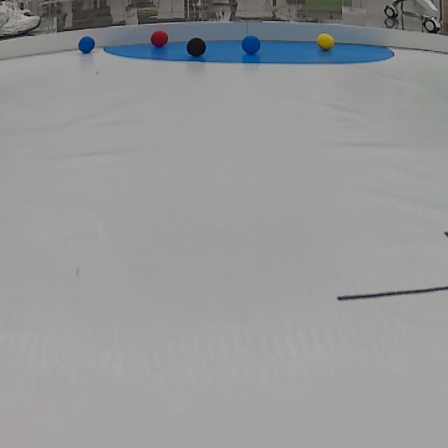black: (184, 33, 208, 58)
blue: (242, 33, 263, 56), (79, 36, 95, 56)
blue_base: (105, 33, 397, 66)
red: (146, 27, 173, 50)
yellow: (315, 33, 337, 53)
